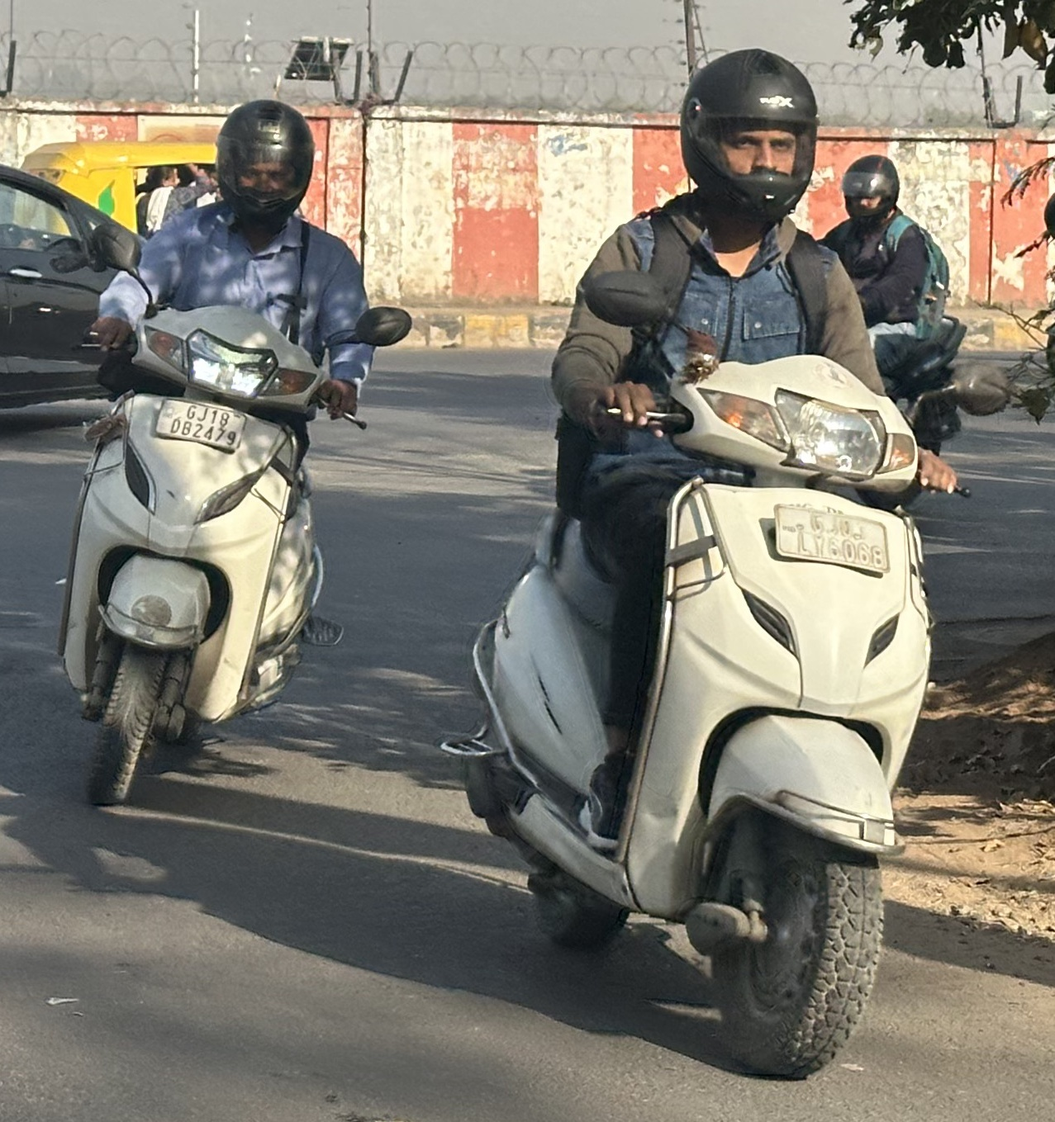BikeWithRider: (432, 42, 1008, 1077), (52, 97, 416, 817), (822, 148, 972, 460)
Helmet: (672, 44, 820, 229), (208, 96, 312, 225), (835, 151, 904, 225)
